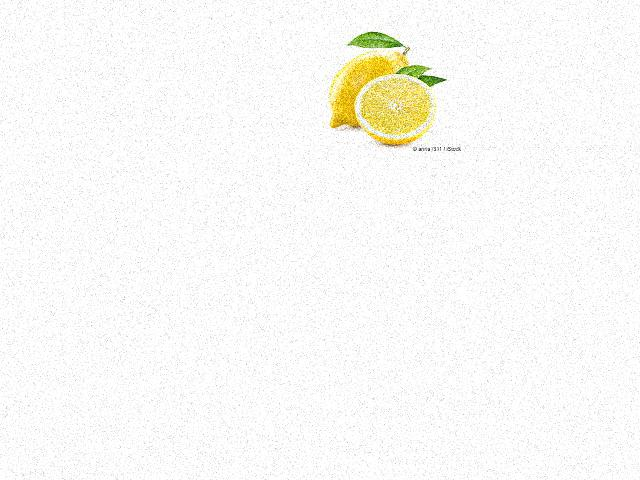lemon: (319, 41, 420, 138)
